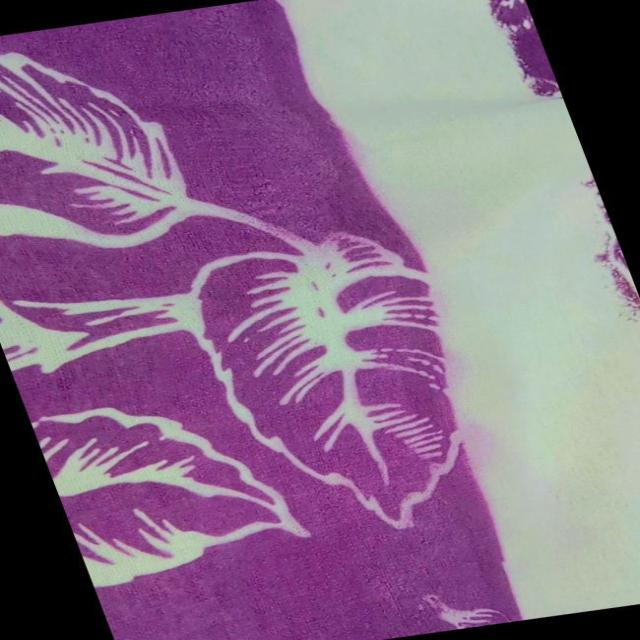baekra: (155, 0, 640, 637)
